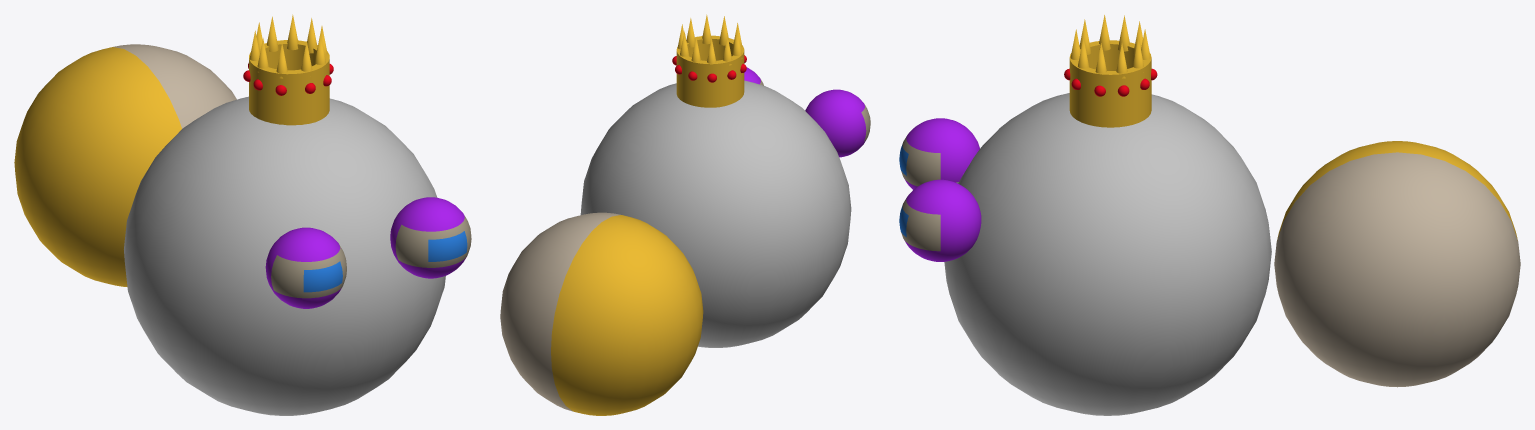
Rendered from projectsnake5.fbx.
The picture shows the model from 3 angles, left to right: view 1: azimuth 30°, elevation 25°; view 2: azimuth 150°, elevation 25°; view 3: azimuth 270°, elevation 25°; orthographic projection. The views are drawn at different scales.
Parts seen in each view (by area): view 1: Sphere.001, Sphere.002, Sphere.013; view 2: Sphere.001, Sphere.002, Sphere.013; view 3: Sphere.001, Sphere.002, Sphere.013.
Boxes of the visible parts, x1=… form: Sphere.001: x1=124, y1=96, x2=471, y2=415; Sphere.002: x1=14, y1=44, x2=236, y2=287; Sphere.013: x1=243, y1=14, x2=333, y2=125; Sphere.001: x1=580, y1=67, x2=870, y2=347; Sphere.002: x1=500, y1=212, x2=703, y2=415; Sphere.013: x1=672, y1=14, x2=746, y2=107; Sphere.001: x1=899, y1=93, x2=1271, y2=415; Sphere.002: x1=1274, y1=141, x2=1520, y2=387; Sphere.013: x1=1064, y1=15, x2=1157, y2=127.
Bounding box in the file's own units: 40 × 50.35 × 75.64.
